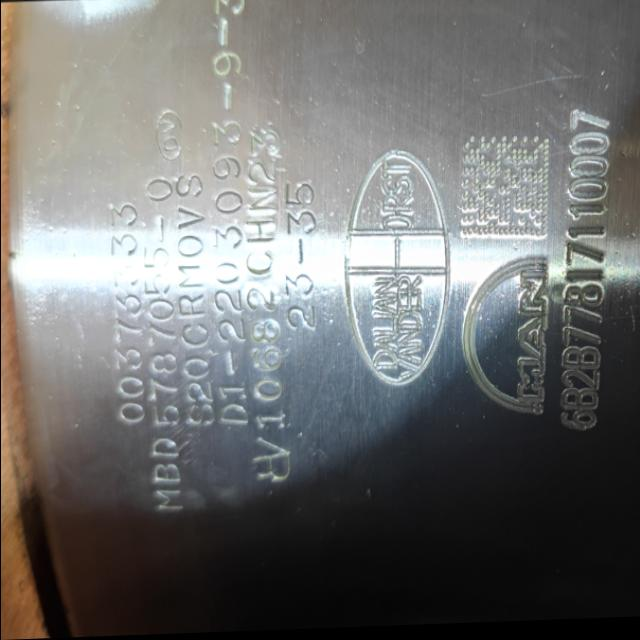dmc: (462, 140, 548, 240)
